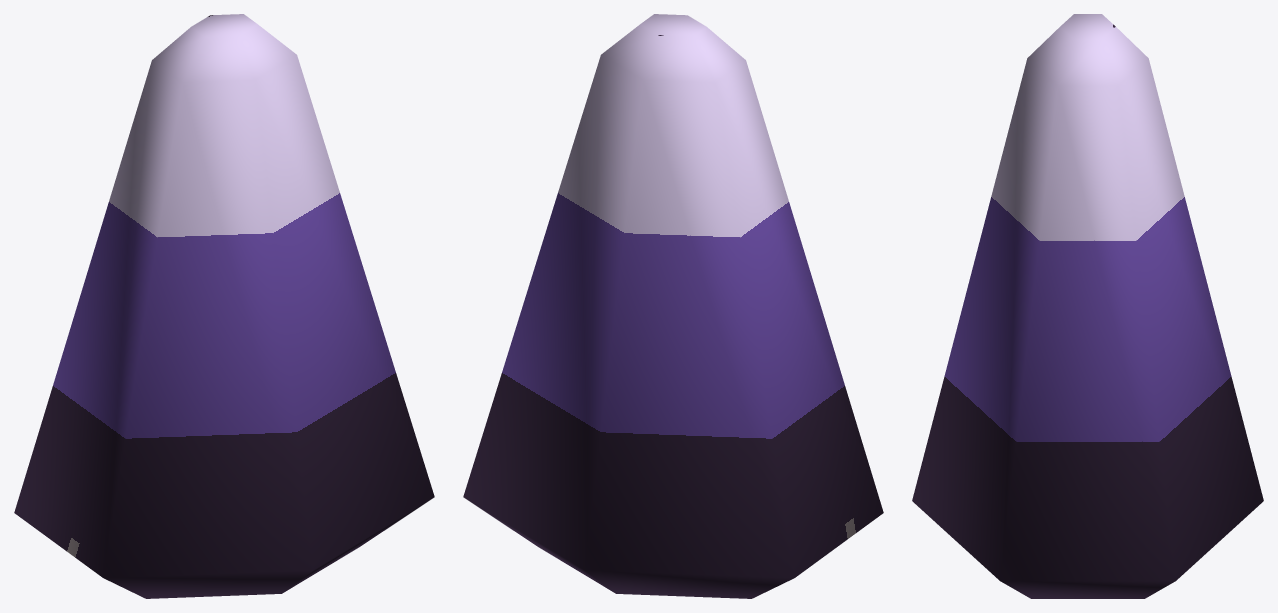
File: Candy_Corn.glb
3 renders of one model, left to right at view 1: azimuth 30°, elevation 25°; view 2: azimuth 150°, elevation 25°; view 3: azimuth 270°, elevation 25°, orthographic.
Parts seen in each view (by area): view 1: Cylinder; view 2: Cylinder; view 3: Cylinder.
Part boxes in pixels (bbox=[...]): Cylinder: bbox=[14, 14, 434, 598]; Cylinder: bbox=[463, 14, 883, 598]; Cylinder: bbox=[912, 14, 1263, 598].
Bounding box in the file's own units: 0.2096 × 0.3179 × 0.1947.
Materials: 1 (1 with a texture image).
